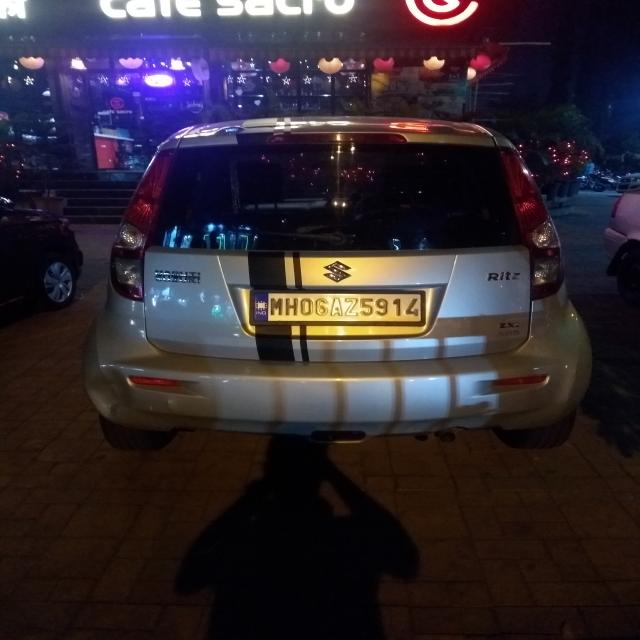Number-Plate: (258, 291, 426, 321)
